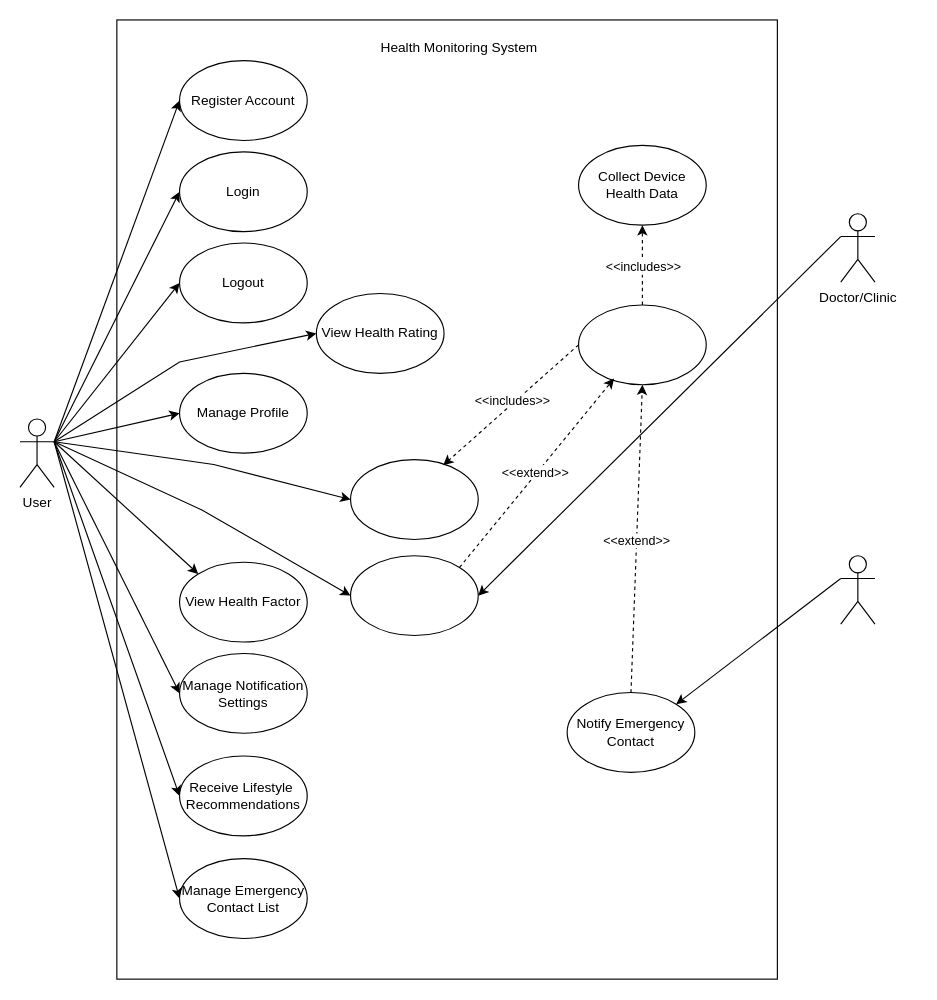
Some shapes in this 937 by 1000 pixel diagram are drawn without their labels. Each missing label, with the centre of its shape:
"Book Doctor Appointment" belongs at pixel 413 595.
"Calculate Health Score" belongs at pixel 641 344.
"Emergency Contact" belongs at pixel 857 589.
"Input Personal Health Data" belongs at pixel 413 499.
